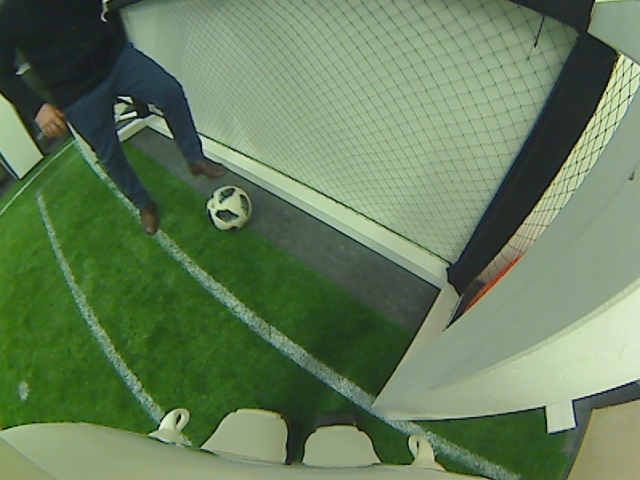ball: (203, 185, 252, 232)
